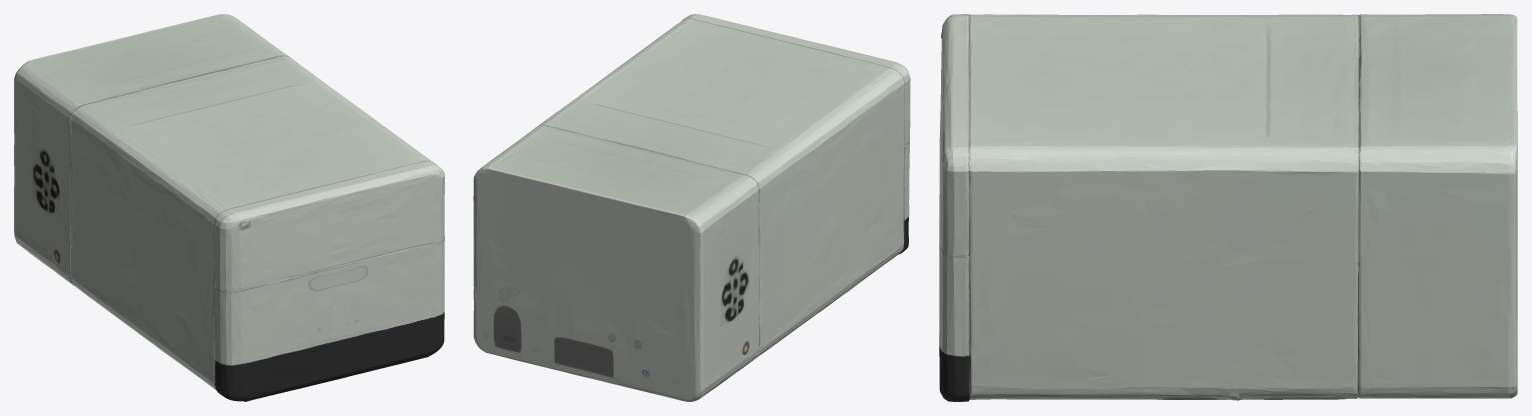
3 views of the same model, side by side, from view 1: azimuth 30°, elevation 25°; view 2: azimuth 150°, elevation 25°; view 3: azimuth 270°, elevation 25° (orthographic). The views are drawn at different scales.
Visible parts, largest first — view 1: world; view 2: world; view 3: world.
Part boxes in pixels (x1=…): world: x1=14, y1=14, x2=444, y2=401; world: x1=473, y1=14, x2=910, y2=401; world: x1=939, y1=14, x2=1517, y2=401.
Size of the model in its own units: 0.6098 by 0.4869 by 0.9946.
1 material, 1 textured.
